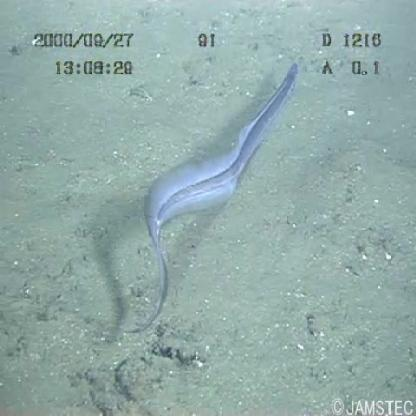Bio: (116, 55, 303, 340)
